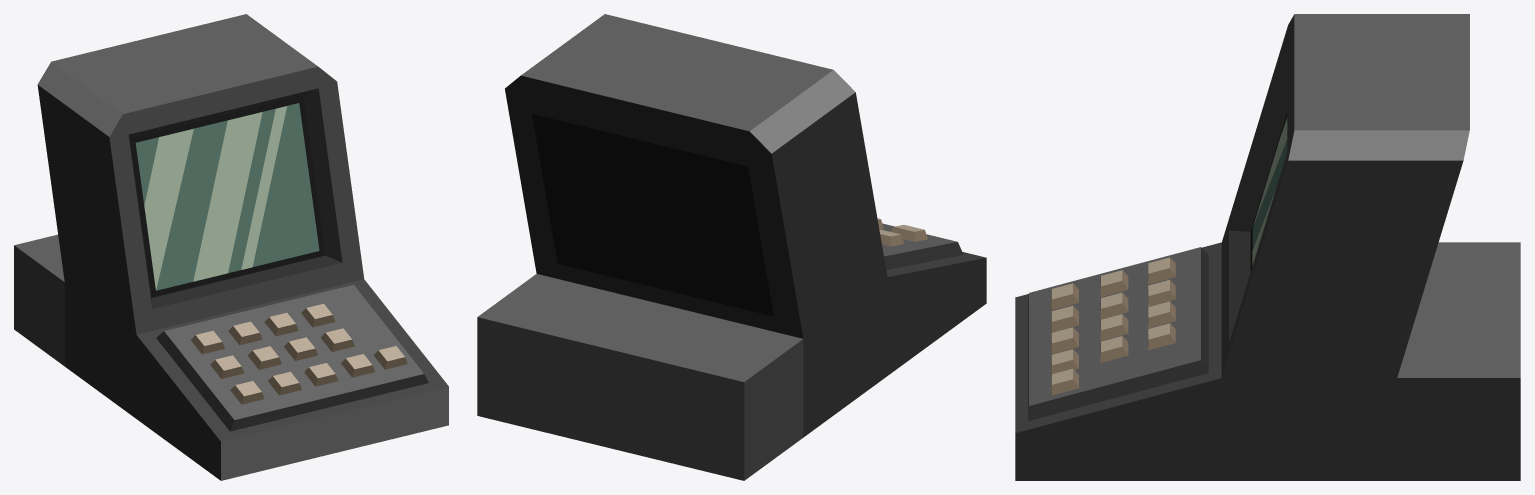
File: CR_PortableComputer_1.fbx
The picture shows the model from 3 angles, left to right: view 1: azimuth 30°, elevation 25°; view 2: azimuth 150°, elevation 25°; view 3: azimuth 270°, elevation 25°; orthographic projection. The views are drawn at different scales.
Visible parts, largest first — view 1: CR_PortableComputer_1; view 2: CR_PortableComputer_1; view 3: CR_PortableComputer_1.
Boxes of the visible parts, x1,y1,x2,y2 form: CR_PortableComputer_1: [14, 14, 448, 480]; CR_PortableComputer_1: [477, 14, 986, 480]; CR_PortableComputer_1: [1015, 14, 1520, 480].
Size of the model in its own units: 0.4185 by 0.4902 by 0.6585.
